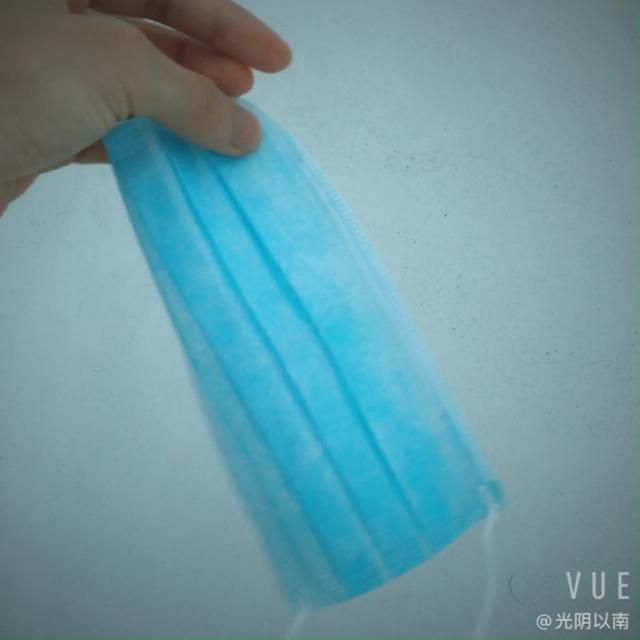non-organic waste: (119, 60, 483, 606)
